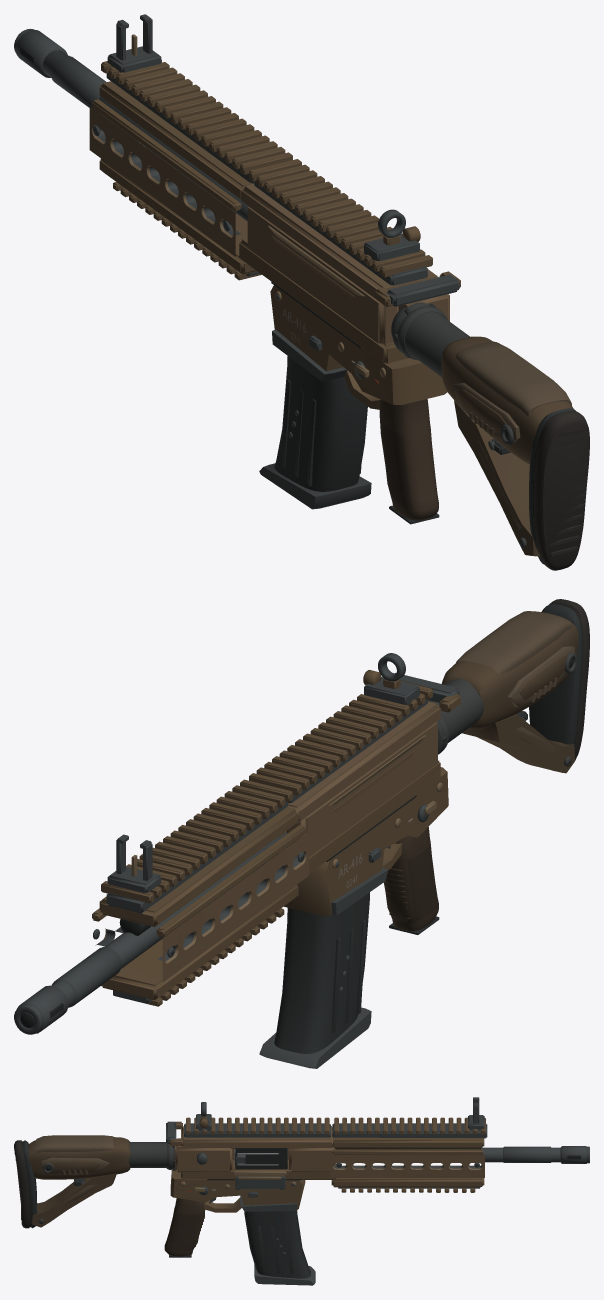
The picture shows the model from 3 angles, top to bottom: view 1: azimuth 30°, elevation 25°; view 2: azimuth 150°, elevation 25°; view 3: azimuth 270°, elevation 25°; orthographic projection. The views are drawn at different scales.
Visible parts, largest first — view 1: Receiver, Stock, Handguard, MagazineBody, Grip, Barrel, Sights, Bolt; view 2: Receiver, Handguard, Stock, MagazineBody, Barrel, Grip, Sights, Bolt; view 3: Receiver, Handguard, Stock, MagazineBody, Barrel, Grip, Sights, Bolt.
Part boxes in pixels (x1=…): Receiver: x1=239, y1=159, x2=449, y2=409; Stock: x1=391, y1=302, x2=589, y2=570; Handguard: x1=89, y1=59, x2=292, y2=280; MagazineBody: x1=259, y1=356, x2=371, y2=509; Grip: x1=379, y1=399, x2=439, y2=524; Barrel: x1=14, y1=28, x2=248, y2=221; Sights: x1=107, y1=14, x2=420, y2=261; Bolt: x1=375, y1=271, x2=460, y2=307; Receiver: x1=249, y1=681, x2=448, y2=916; Handguard: x1=92, y1=779, x2=308, y2=1006; Stock: x1=428, y1=599, x2=589, y2=773; MagazineBody: x1=259, y1=892, x2=371, y2=1068; Barrel: x1=14, y1=832, x2=287, y2=1034; Grip: x1=383, y1=827, x2=439, y2=934; Sights: x1=107, y1=653, x2=419, y2=893; Bolt: x1=395, y1=673, x2=460, y2=712; Receiver: x1=170, y1=1117, x2=336, y2=1212; Handguard: x1=330, y1=1117, x2=487, y2=1192; Stock: x1=14, y1=1135, x2=175, y2=1228; MagazineBody: x1=244, y1=1210, x2=315, y2=1285; Barrel: x1=335, y1=1146, x2=589, y2=1163; Grip: x1=164, y1=1198, x2=205, y2=1257; Sights: x1=196, y1=1097, x2=484, y2=1130; Bolt: x1=166, y1=1121, x2=278, y2=1165.
Bounding box in the file's own units: 0.1199 × 0.4558 × 1.34.
